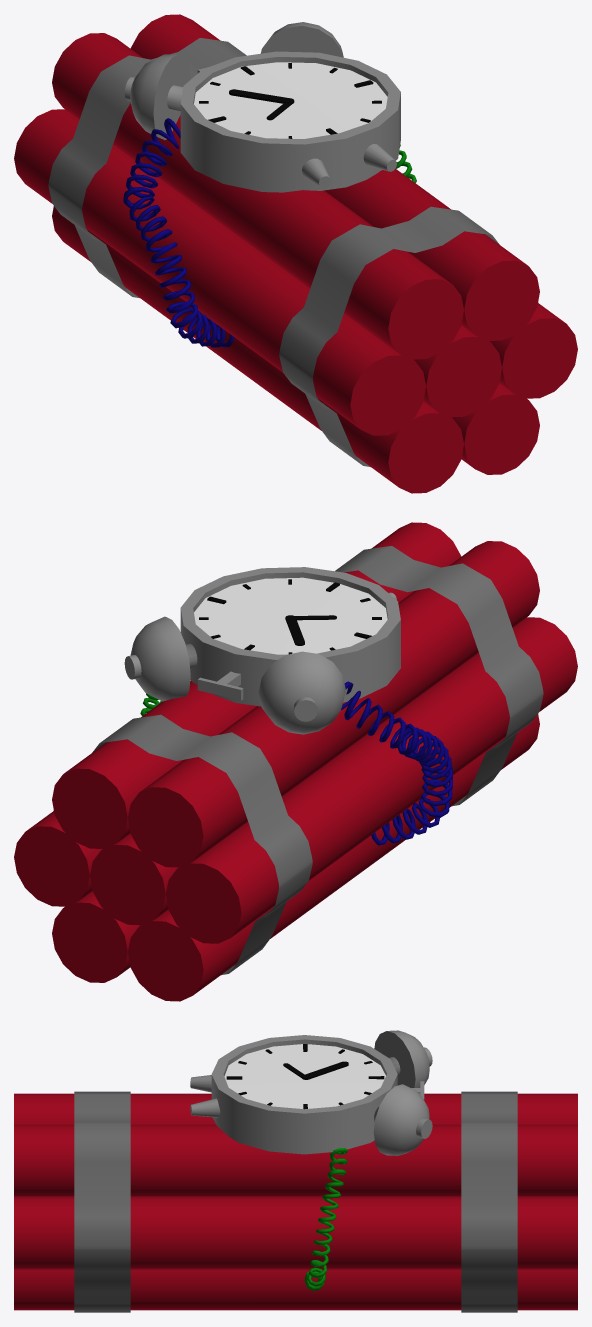
Rendered from SM_Dynamite.glb.
The picture shows the model from 3 angles, top to bottom: view 1: azimuth 30°, elevation 25°; view 2: azimuth 150°, elevation 25°; view 3: azimuth 270°, elevation 25°; orthographic projection. The views are drawn at different scales.
Visible parts, largest first — view 1: SM_Dynamite; view 2: SM_Dynamite; view 3: SM_Dynamite.
Part boxes in pixels (x1=…): SM_Dynamite: x1=14, y1=14, x2=577, y2=493; SM_Dynamite: x1=14, y1=522, x2=577, y2=1001; SM_Dynamite: x1=14, y1=1030, x2=577, y2=1312.
Bounding box in the file's own units: 0.4791 × 0.4432 × 0.9644.
